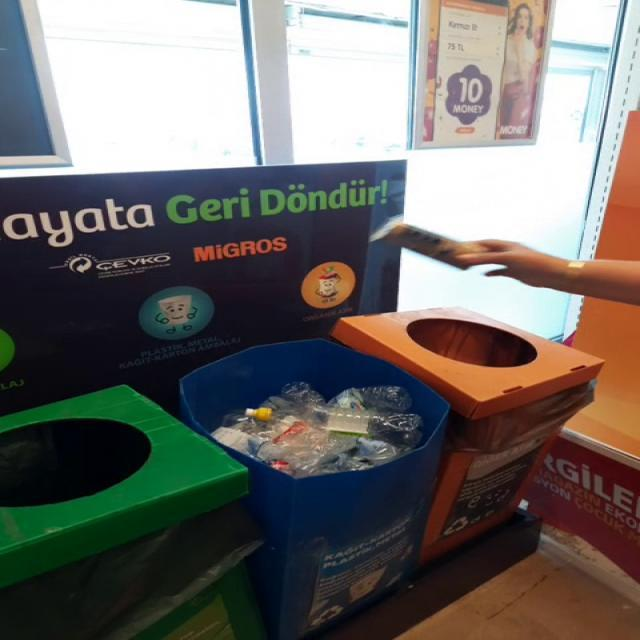Bin: (180, 308, 604, 640), (0, 386, 248, 587)
Metal: (373, 216, 487, 269)
